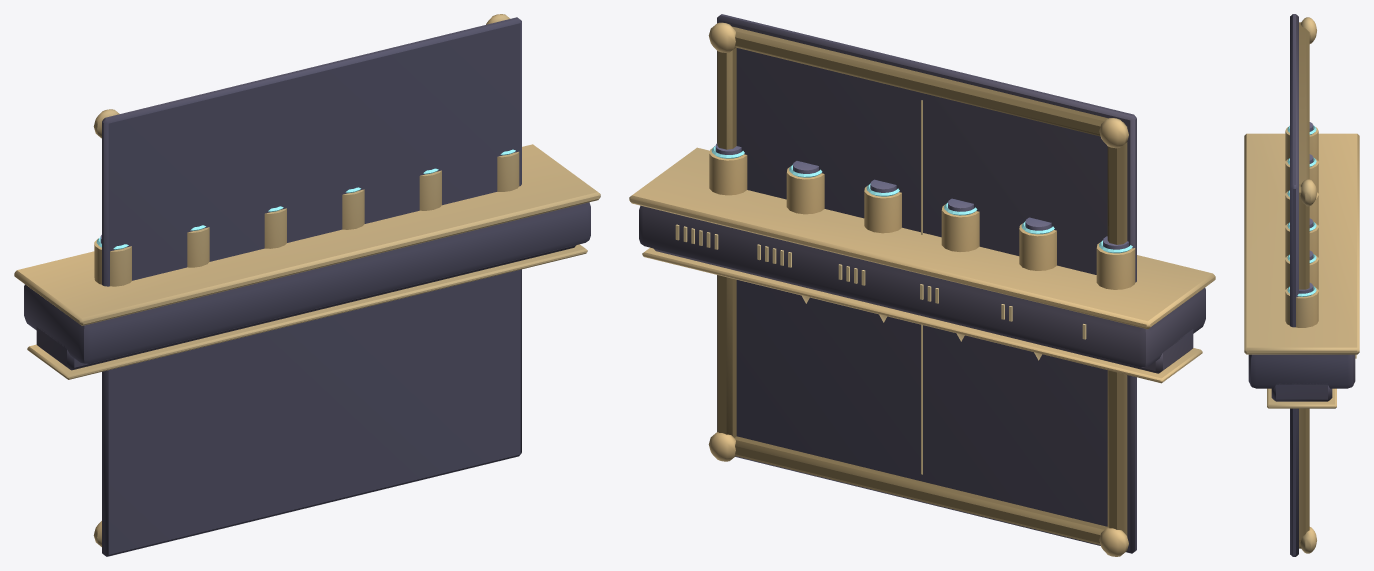
The model's file is lissajous_harp.glb.
3 renders of one model, left to right at view 1: azimuth 30°, elevation 25°; view 2: azimuth 150°, elevation 25°; view 3: azimuth 270°, elevation 25°, orthographic. The views are drawn at different scales.
Parts seen in each view (by area): view 1: harp_frame, harp_base, harp_top; view 2: harp_frame, harp_base, harp_top; view 3: harp_base, harp_frame, harp_top.
Boxes of the visible parts, x1,y1,x2,y2 form: harp_frame: (93, 14, 521, 556); harp_base: (14, 144, 600, 363); harp_top: (27, 244, 587, 379); harp_frame: (708, 14, 1136, 556); harp_base: (629, 143, 1215, 367); harp_top: (642, 247, 1202, 383); harp_base: (1244, 122, 1359, 388); harp_frame: (1290, 14, 1316, 556); harp_top: (1267, 383, 1336, 408).
Size of the model in its own units: 3.36 by 2.7 by 0.76.
